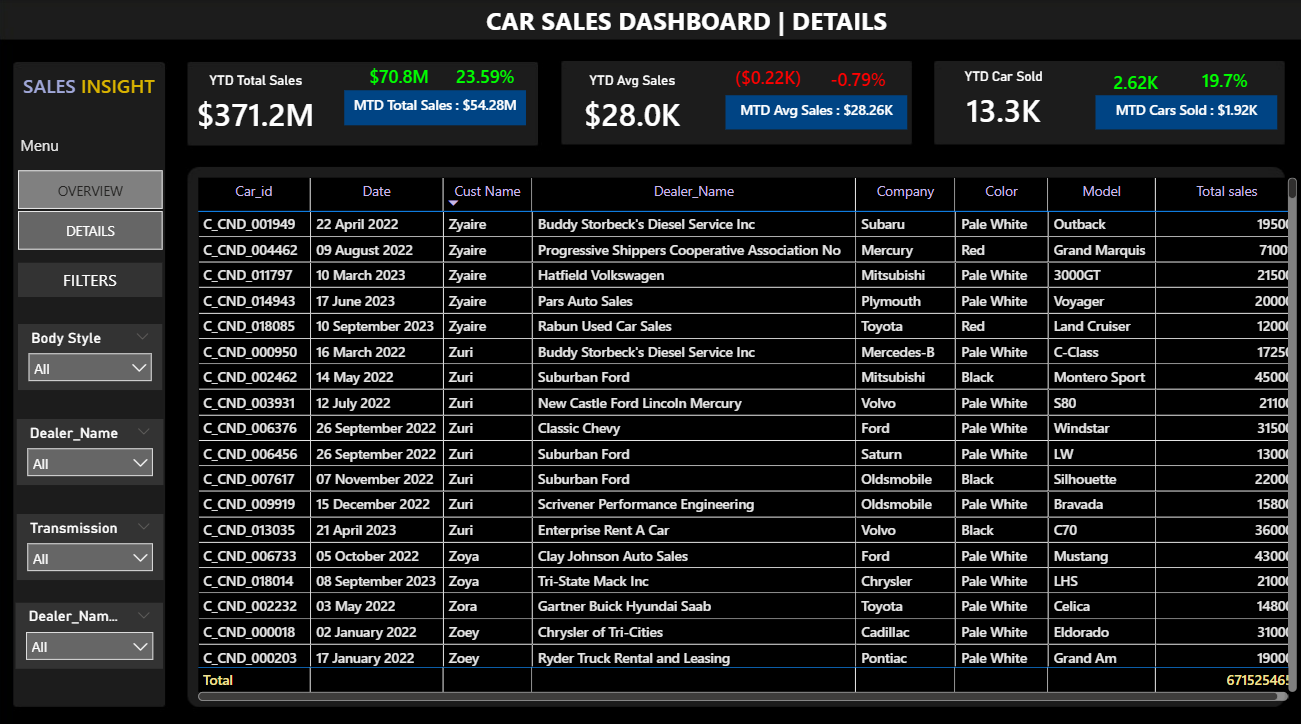

What the dashboard file says about the page in this screenshot:
{"tool":"powerbi","page":{"name":"DETAILS","canvas":[1280,720],"ordinal":1},"visuals":[{"type":"card","title":"YTD Total Sales","fields":{"Values":["car_data.YTD total sales"]},"box":[190,72.9,125.7,67.2],"z":0},{"type":"card","fields":{"Values":["car_data.Sales difference"]},"box":[360,61.4,68.6,32.9],"z":1000},{"type":"card","fields":{"Values":["car_data.YoY sales growth"]},"box":[444.3,61.4,68.6,32.9],"z":2000},{"type":"card","title":"YTD Total Sales","fields":{"Values":["car_data.MTD KPI"]},"box":[340,90,178.6,34.3],"z":3000},{"type":"card","title":"YTD Avg Sales","fields":{"Values":["car_data.YTD Avg sales"]},"box":[560,72.5,126.2,67.5],"z":4000},{"type":"card","fields":{"Values":["car_data.Avg Price diff"]},"box":[710,65,91.2,28.8],"z":5000},{"type":"card","fields":{"Values":["car_data.YoY Avg Price Growth"]},"box":[798.8,66.2,91.2,28.8],"z":6000},{"type":"card","title":"YTD Total Sales","fields":{"Values":["car_data.MTD Avg Price KPI"]},"box":[713.8,95,178.8,33.8],"z":7000},{"type":"card","title":"YTD Car Sold","fields":{"Values":["car_data.YTD car sold"]},"box":[923.8,68.8,126.2,67.5],"z":8000},{"type":"card","fields":{"Values":["car_data.Cars Sold diff"]},"box":[1071.2,68.8,91.2,31.2],"z":9000},{"type":"card","fields":{"Values":["car_data.YoY car sold growth"]},"box":[1162.5,66.2,85,31.2],"z":10000},{"type":"card","title":"YTD Total Sales","fields":{"Values":["car_data.MTD Cars sold KPI"]},"box":[1077.5,95,178.8,33.8],"z":11000},{"type":"textbox","box":[420.9,0,510.4,47.9],"z":12000},{"type":"slicer","fields":{"Values":["car_data.Body Style"]},"box":[20,318.8,141.2,65],"z":13000},{"type":"slicer","fields":{"Values":["car_data.Dealer_Name"]},"box":[18.8,412.5,143.8,65],"z":14000},{"type":"slicer","fields":{"Values":["car_data.Dealer_Name","car_data.Engine"]},"box":[17.5,592.5,145,65],"z":15000},{"type":"slicer","fields":{"Values":["car_data.Transmission"]},"box":[18.8,505,143.8,65],"z":16000},{"type":"textbox","box":[20,258.8,141.2,33.8],"z":17000},{"type":"tableEx","fields":{"Values":["car_data.Car_id","car_data.Date","car_data.Customer Name","car_data.Dealer_Name","car_data.Company","car_data.Color","car_data.Model","Sum(car_data.Price ($))"]},"box":[190,170,1090,523.8],"z":18000},{"type":"textbox","box":[20,67.5,145,38.8],"z":18001},{"type":"textbox","box":[17.5,128.8,62.5,33.8],"z":18002},{"type":"pageNavigator","box":[20,167.5,142.5,78.8],"z":18003}]}

Visuals, with their boxes in screenshot pixels (x1, y1, x2, y2), scaled from the page's 1280x720 canvas onto the 1301x724 screenshot:
"YTD Total Sales" card: x1=193 y1=73 x2=321 y2=141
card - car_data.Sales difference: x1=366 y1=62 x2=436 y2=95
card - car_data.YoY sales growth: x1=452 y1=62 x2=521 y2=95
"YTD Total Sales" card: x1=346 y1=90 x2=527 y2=125
"YTD Avg Sales" card: x1=569 y1=73 x2=697 y2=141
card - car_data.Avg Price diff: x1=722 y1=65 x2=814 y2=94
card - car_data.YoY Avg Price Growth: x1=812 y1=67 x2=905 y2=96
"YTD Total Sales" card: x1=726 y1=96 x2=907 y2=130
"YTD Car Sold" card: x1=939 y1=69 x2=1067 y2=137
card - car_data.Cars Sold diff: x1=1089 y1=69 x2=1181 y2=101
card - car_data.YoY car sold growth: x1=1182 y1=67 x2=1268 y2=98
"YTD Total Sales" card: x1=1095 y1=96 x2=1277 y2=130
textbox: x1=428 y1=0 x2=947 y2=48
slicer - car_data.Body Style: x1=20 y1=321 x2=164 y2=386
slicer - car_data.Dealer_Name: x1=19 y1=415 x2=165 y2=480
slicer - car_data.Dealer_Name x car_data.Engine: x1=18 y1=596 x2=165 y2=661
slicer - car_data.Transmission: x1=19 y1=508 x2=165 y2=573
textbox: x1=20 y1=260 x2=164 y2=294
tableEx - car_data.Car_id x car_data.Date: x1=193 y1=171 x2=1300 y2=698
textbox: x1=20 y1=68 x2=168 y2=107
textbox: x1=18 y1=130 x2=81 y2=164
pageNavigator: x1=20 y1=168 x2=165 y2=248
